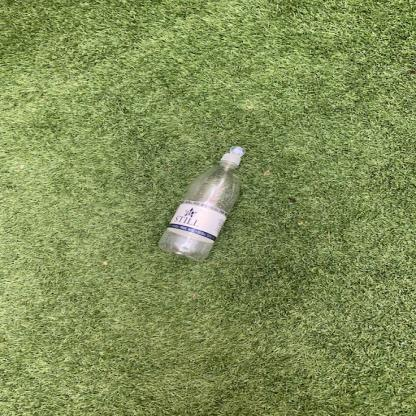trash: (156, 147, 245, 262)
